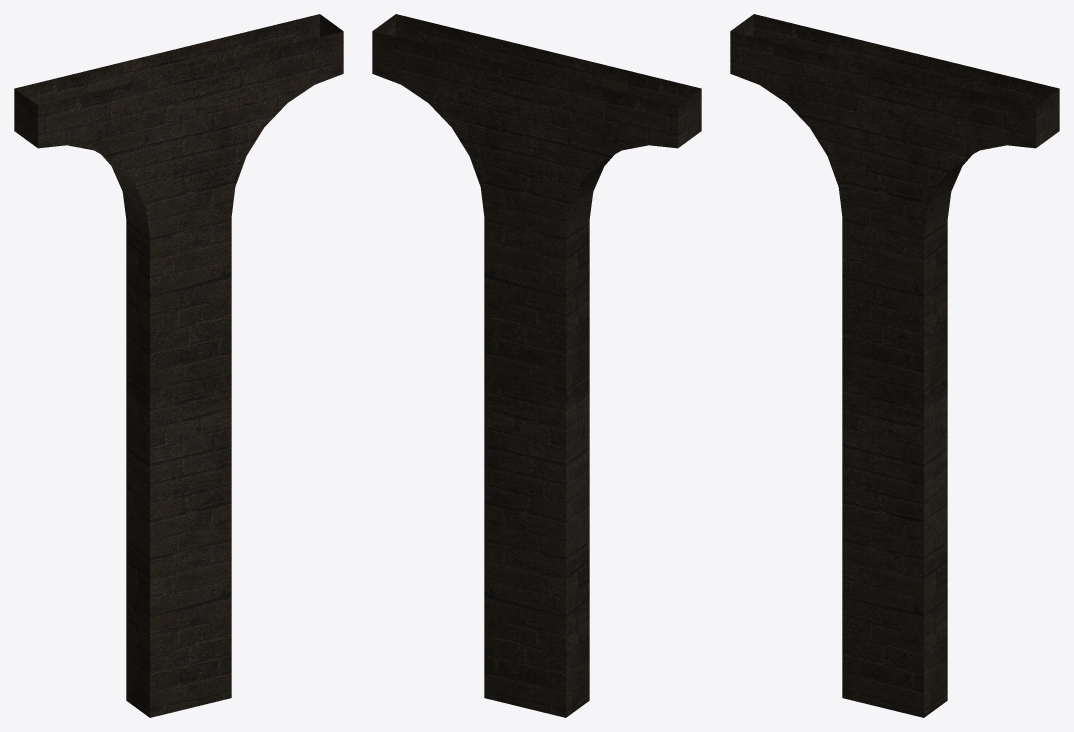
File: half_arc_pillar_2_tall_wall_1_plain.glb
The picture shows the model from 3 angles, left to right: view 1: azimuth 30°, elevation 25°; view 2: azimuth 150°, elevation 25°; view 3: azimuth 330°, elevation 25°; orthographic projection.
Visible parts, largest first — view 1: half_arc_pillar_2_tall_wall_1_plain; view 2: half_arc_pillar_2_tall_wall_1_plain; view 3: half_arc_pillar_2_tall_wall_1_plain.
Boxes of the visible parts, box(x1,y1,x2,y2) form: half_arc_pillar_2_tall_wall_1_plain: box(14, 14, 343, 717); half_arc_pillar_2_tall_wall_1_plain: box(372, 14, 701, 717); half_arc_pillar_2_tall_wall_1_plain: box(730, 14, 1059, 717).
Size of the model in its own units: 3 by 6 by 0.4.
1 material, 1 textured.
